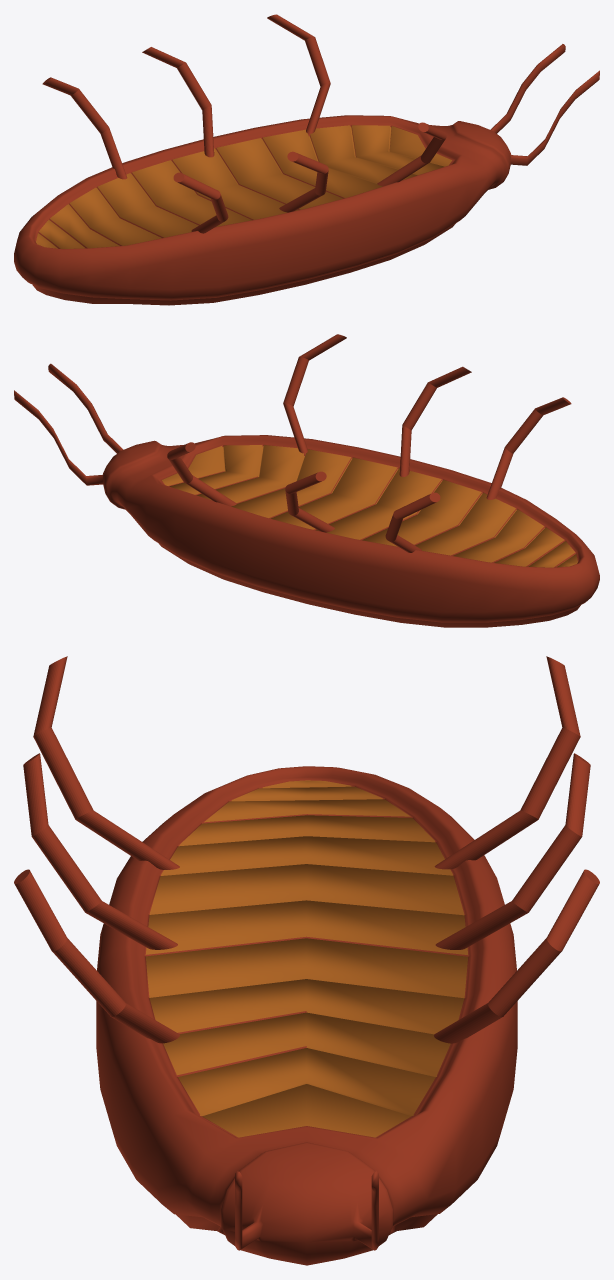
The model's file is Cucarracha.fbx.
3 views of the same model, one above another, from view 1: azimuth 30°, elevation 25°; view 2: azimuth 150°, elevation 25°; view 3: azimuth 270°, elevation 25° (orthographic). The views are drawn at different scales.
Visible parts, largest first — view 1: Circle; view 2: Circle; view 3: Circle.
Boxes of the visible parts, bbox=[...] form: Circle: bbox=[14, 14, 599, 305]; Circle: bbox=[14, 334, 599, 627]; Circle: bbox=[14, 656, 599, 1265].
Size of the model in its own units: 1732 by 471 by 831.
